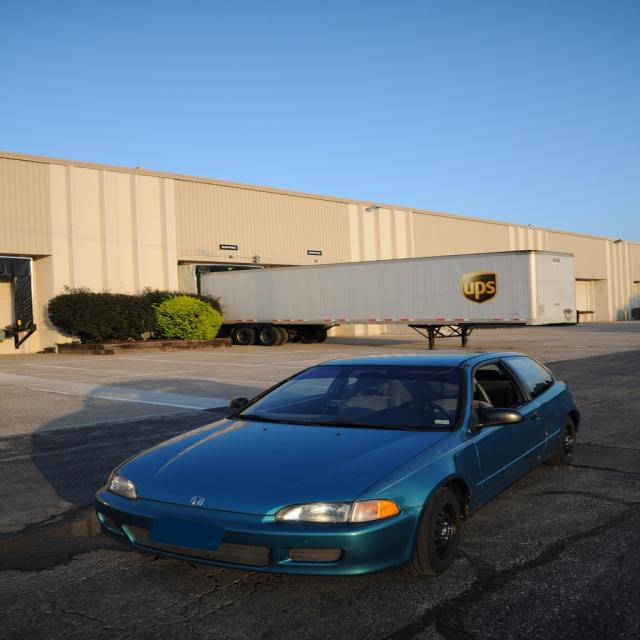ups: (462, 271, 499, 305)
